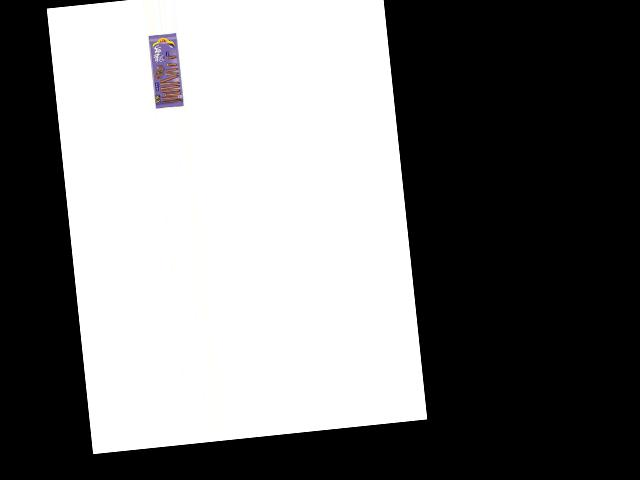chocolate: (147, 31, 187, 110)
